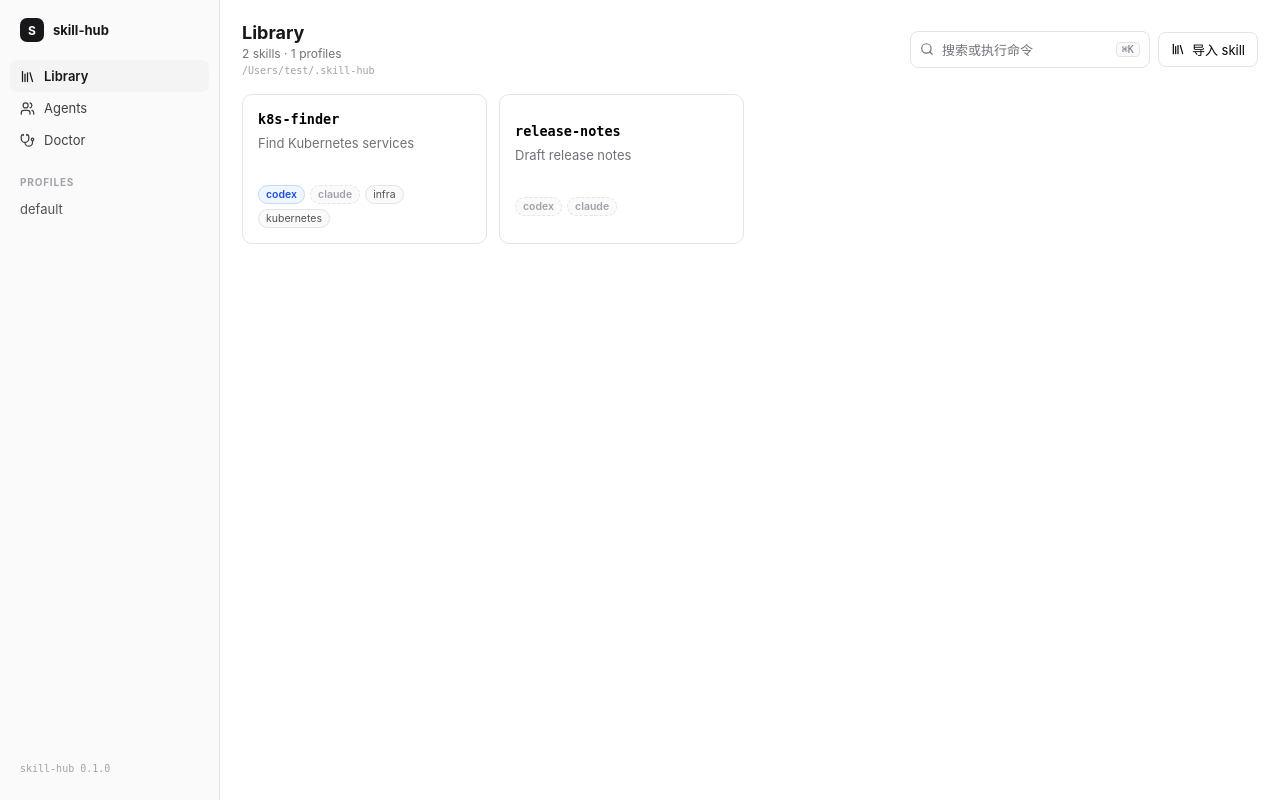
Test: Wave 3 desktop shell › opens command search with Meta+K, filters skills and navigates
Expected: the text "k8s-finder" is shown, x1=258 y1=110 x2=339 y2=126
Press k
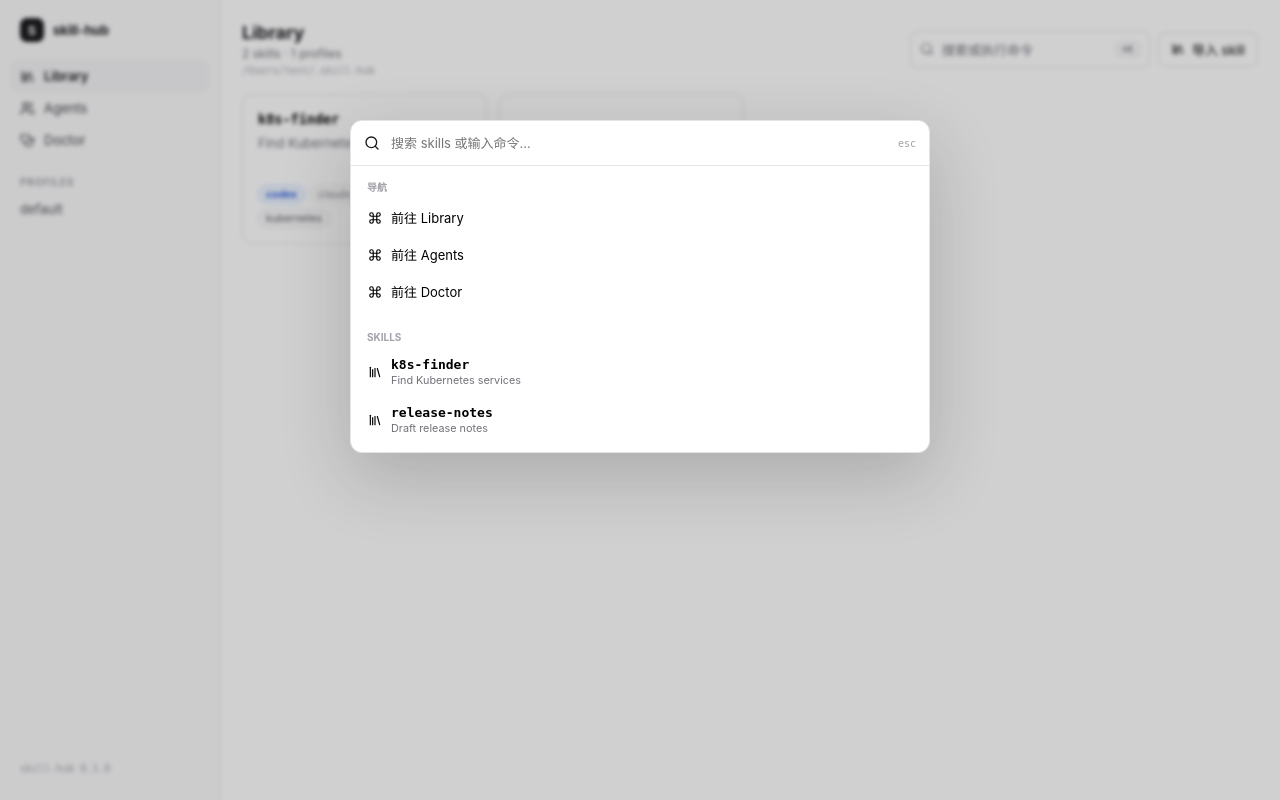
In the field with placeholder "搜索 skills 或输入命令…": (639, 143) x1=389 y1=134 x2=889 y2=152, type "release"
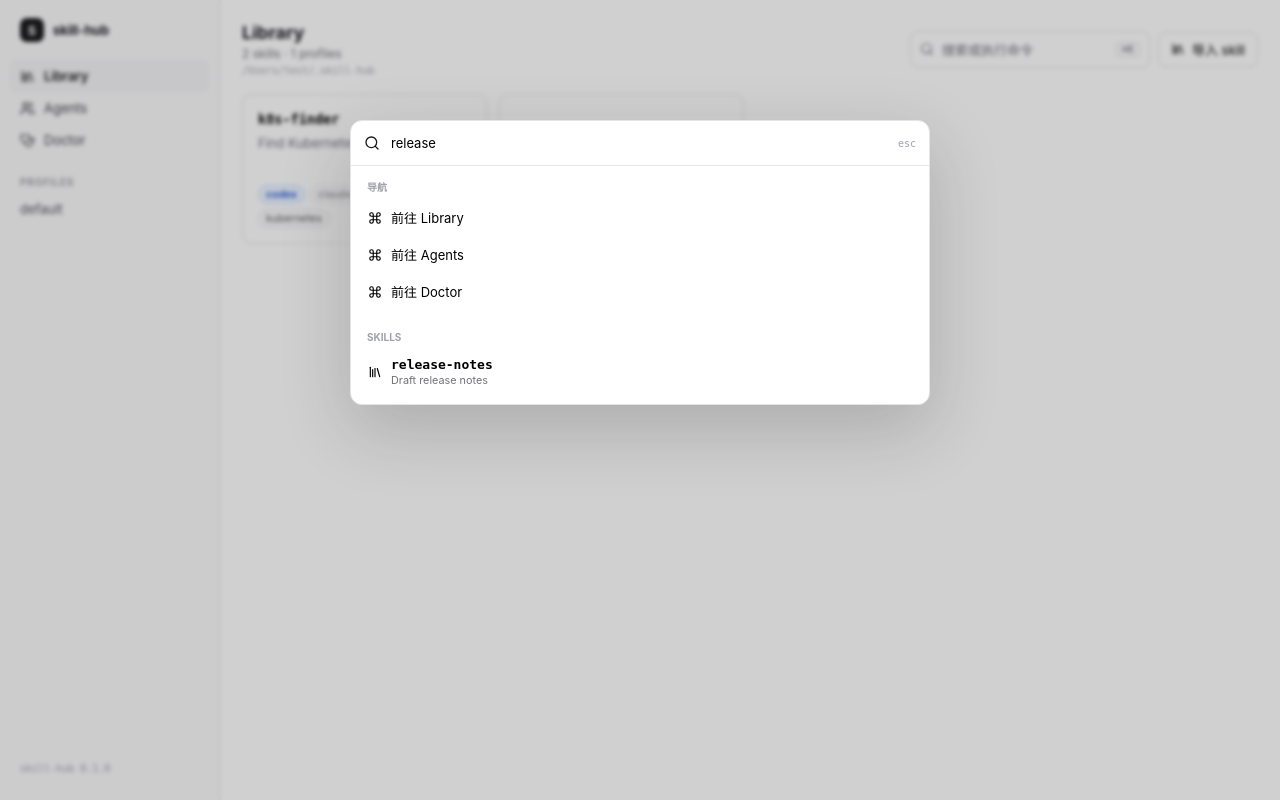
Expected: the dialog named "Command palette" does not show "k8s-finder", x1=350 y1=120 x2=930 y2=405
Result: the dialog named "Command palette" shows "release-notes" at x1=359 y1=348 x2=921 y2=396
Clear the field with placeholder "搜索 skills 或输入命令…": (639, 143) x1=389 y1=134 x2=889 y2=152
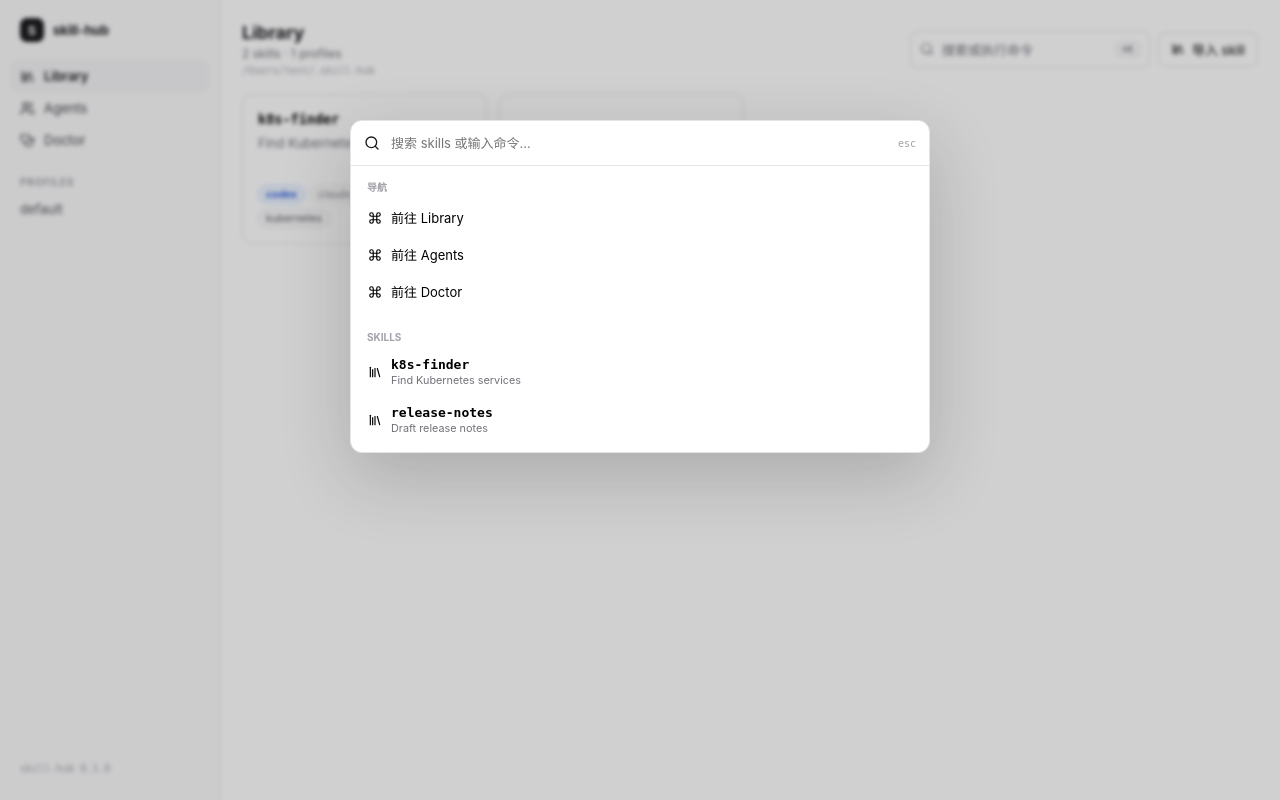
Click the button "前往 Doctor": (446, 292) x1=359 y1=273 x2=921 y2=310
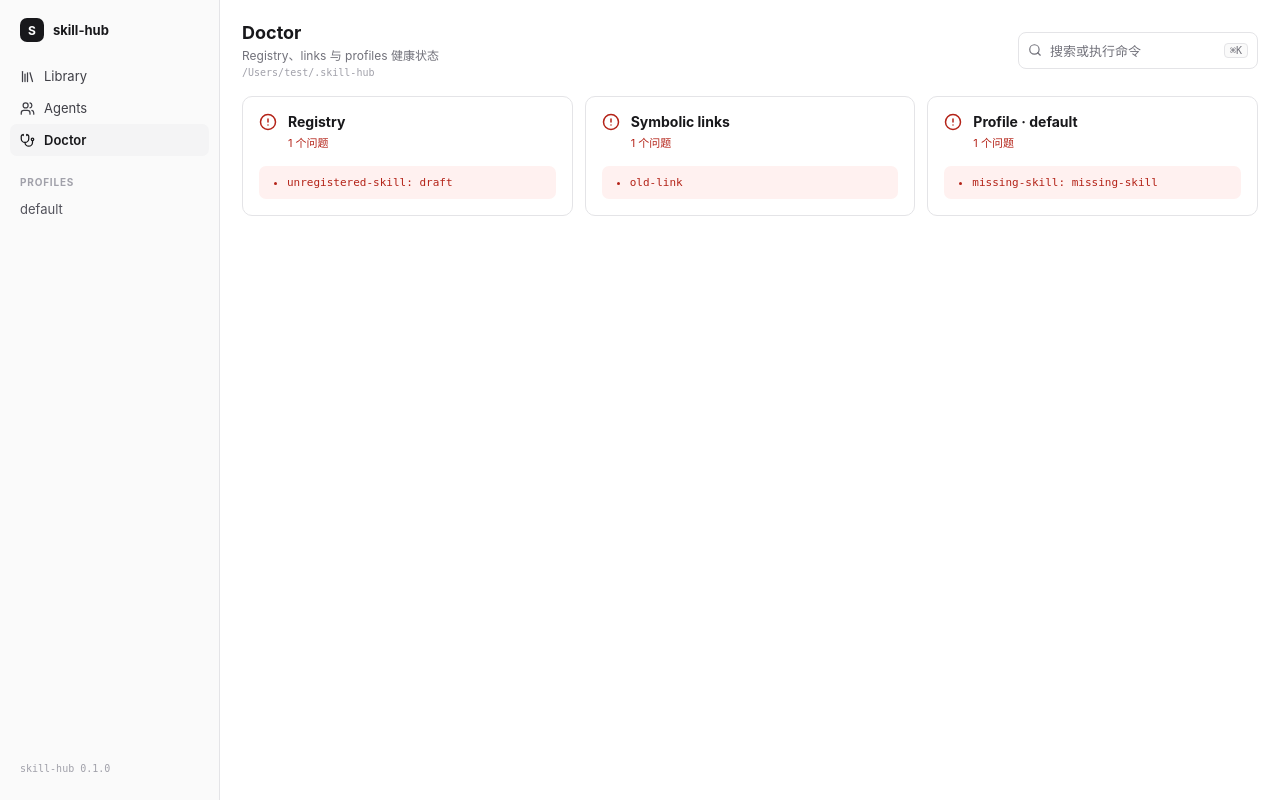
Result: the heading "Doctor" is shown at x1=242 y1=22 x2=301 y2=43
